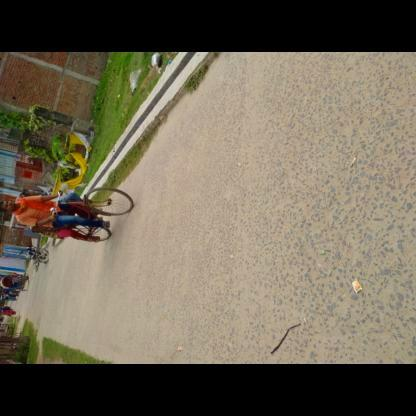Bicycle: (49, 173, 145, 261)
